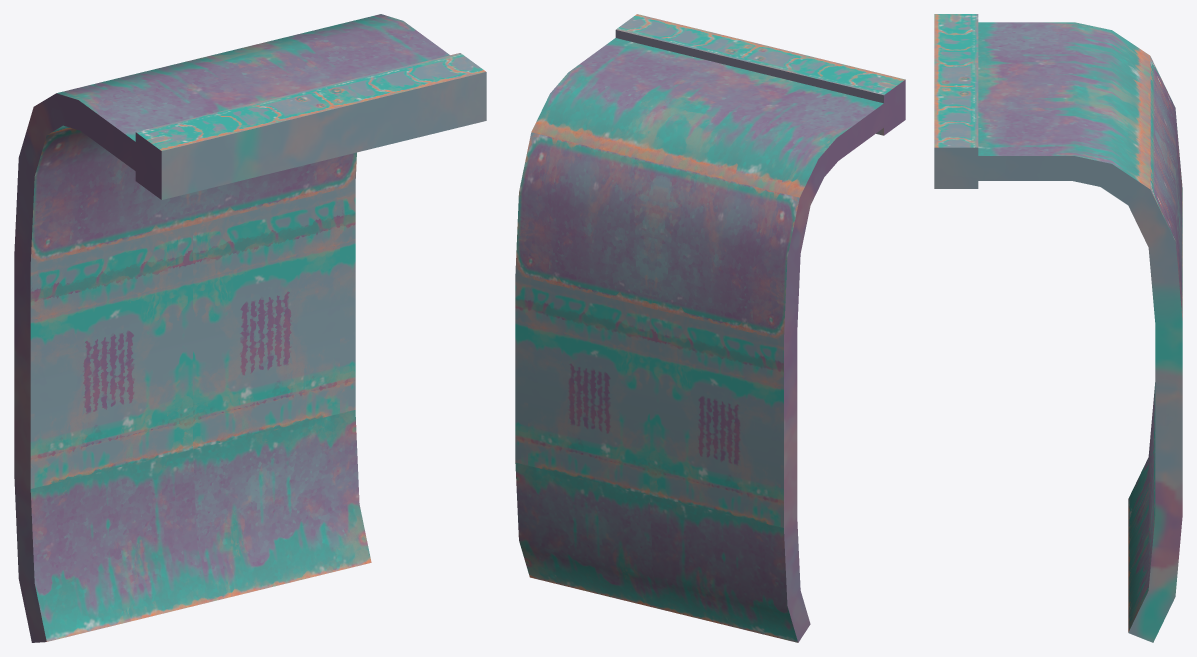
File: roof_side_short.fbx
The picture shows the model from 3 angles, left to right: view 1: azimuth 30°, elevation 25°; view 2: azimuth 150°, elevation 25°; view 3: azimuth 270°, elevation 25°; orthographic projection. The views are drawn at different scales.
Visible parts, largest first — view 1: polySurface6; view 2: polySurface6; view 3: polySurface6.
Part boxes in pixels (x1,y1,x2,y2): polySurface6: (14,14,486,642); polySurface6: (515,14,905,642); polySurface6: (934,14,1182,642).
Bounding box in the file's own units: 174 × 300 × 136.
1 material, 1 textured.
